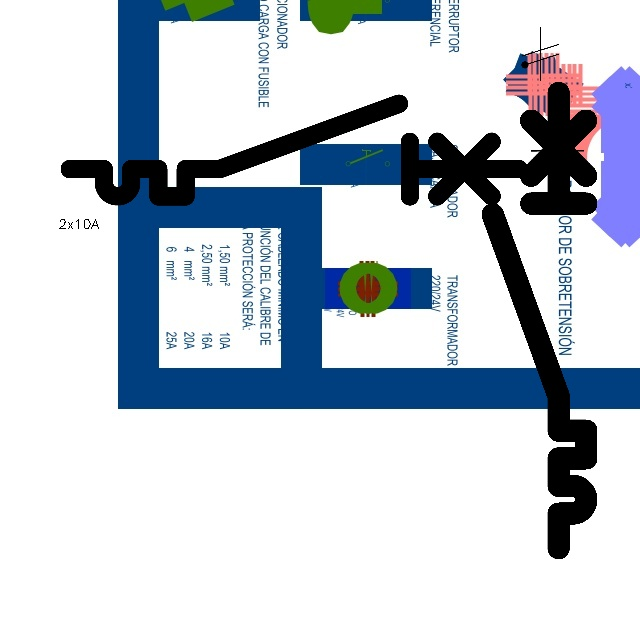interruptor_termomagnetico: (481, 81, 598, 559), (58, 92, 530, 208)
